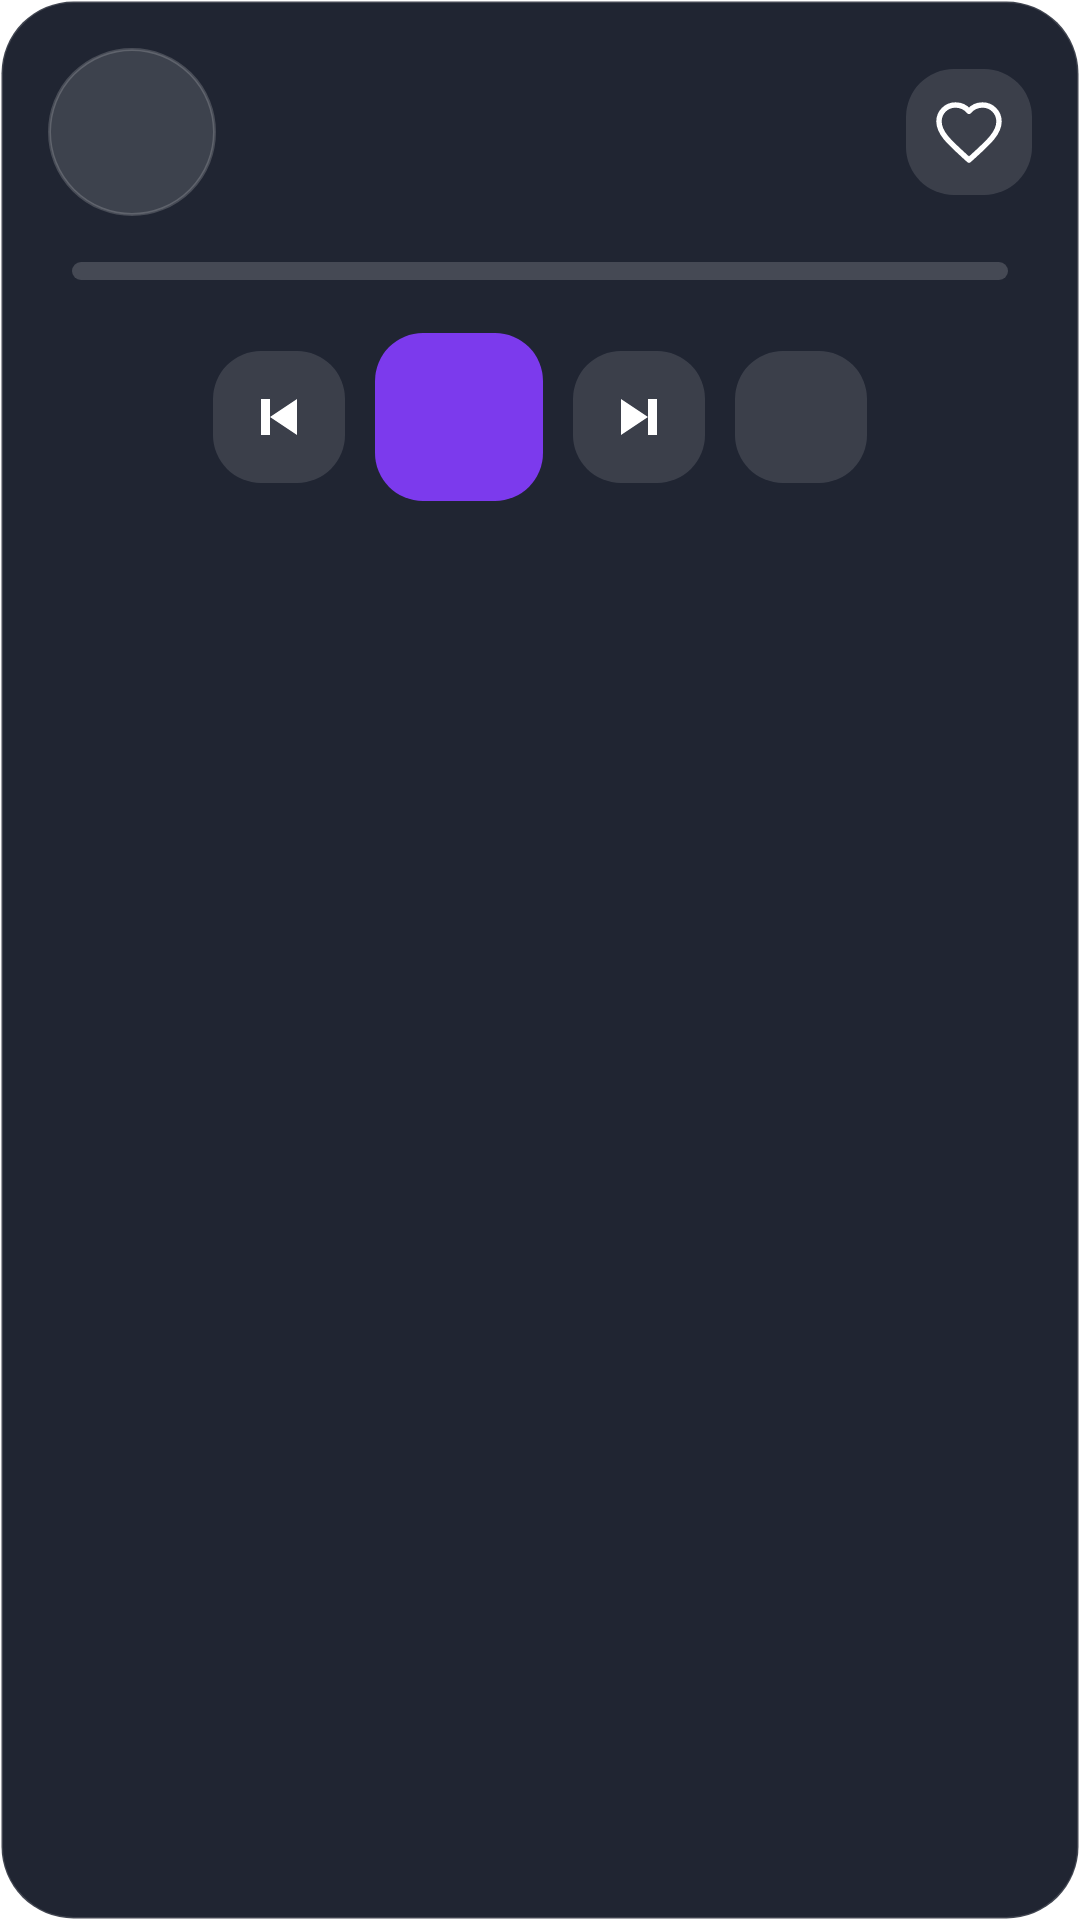

Named icons in this screenshot (1080px x 1920px) and their centers, (x,y):
notification favorite: (969,132)
notification next: (639,417)
notification previous: (279,417)
